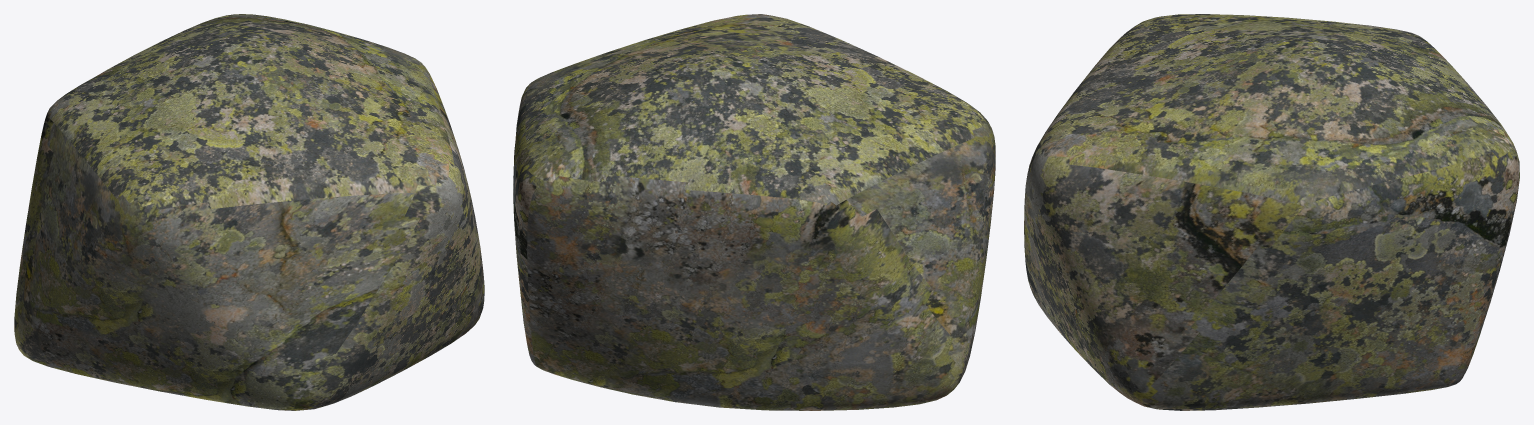
File: rocks_01.glb
3 views of the same model, side by side, from view 1: azimuth 30°, elevation 25°; view 2: azimuth 150°, elevation 25°; view 3: azimuth 270°, elevation 25° (orthographic). The views are drawn at different scales.
Visible parts, largest first — view 1: Rock4_Rock_0; view 2: Rock4_Rock_0; view 3: Rock4_Rock_0.
Boxes of the visible parts, box(x1,y1,x2,y2) form: Rock4_Rock_0: box(14, 14, 484, 410); Rock4_Rock_0: box(513, 14, 995, 410); Rock4_Rock_0: box(1024, 14, 1519, 410).
Bounding box in the file's own units: 0.8361 × 0.5463 × 0.8139.
Materials: 1 (1 with a texture image).
